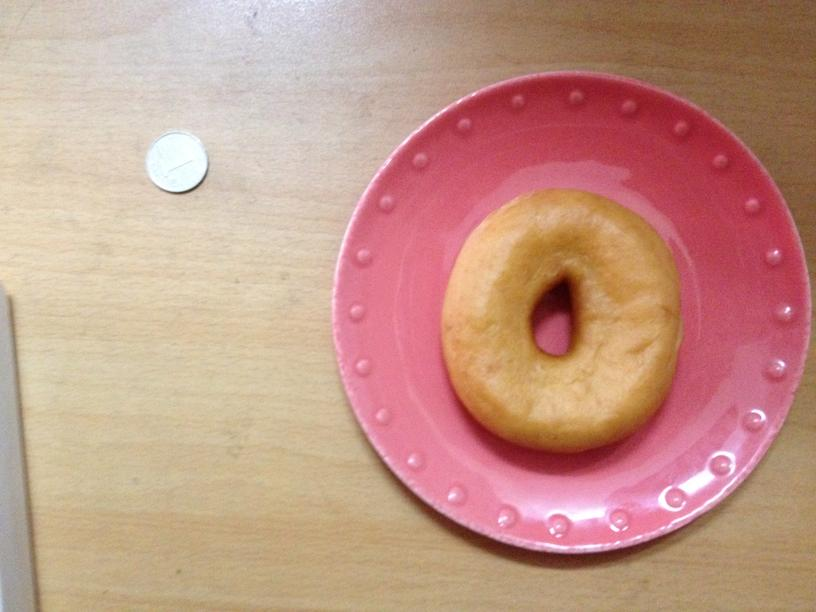coin: (442, 186, 683, 455)
doughnut: (442, 186, 683, 455)
